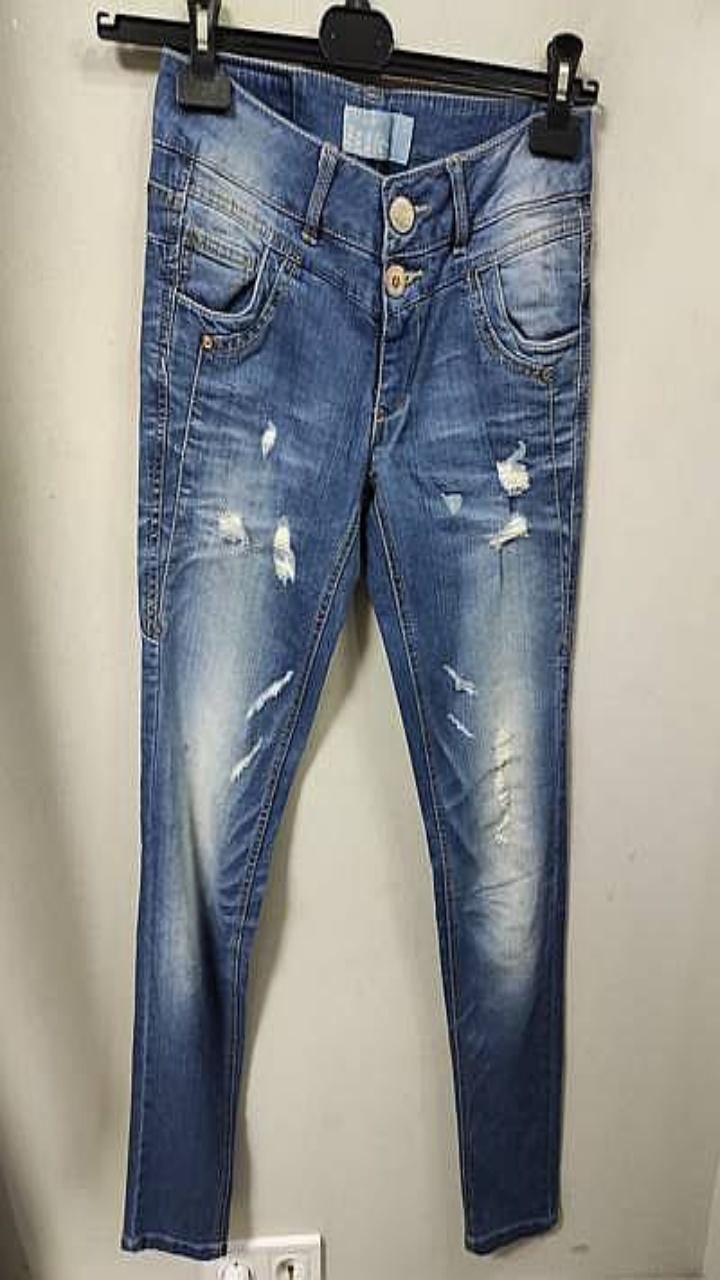Jeans: (121, 47, 591, 1258)
